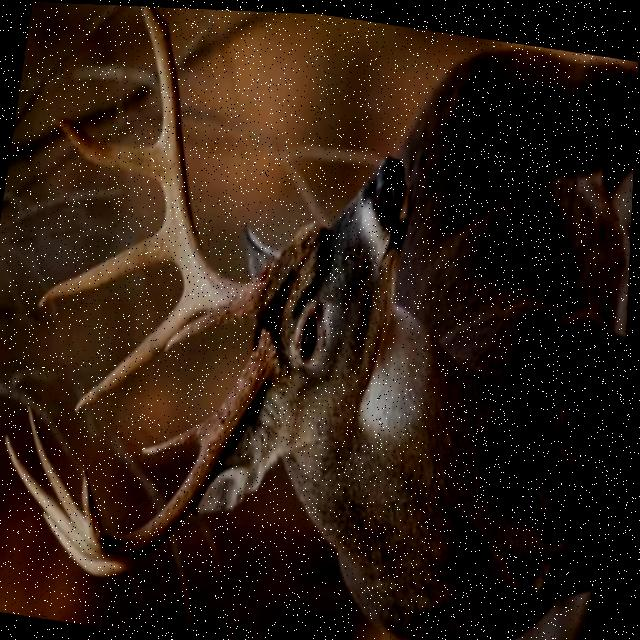L-F: (140, 5, 276, 319)
L-G1: (165, 309, 225, 353)
L-G2: (77, 286, 209, 413)
L-G3: (39, 220, 177, 308)
L-G4: (50, 113, 162, 181)
R-F: (29, 323, 284, 559)
R-G1: (144, 404, 224, 454)
R-G3: (8, 431, 107, 558)
R-G4: (84, 465, 113, 541)
